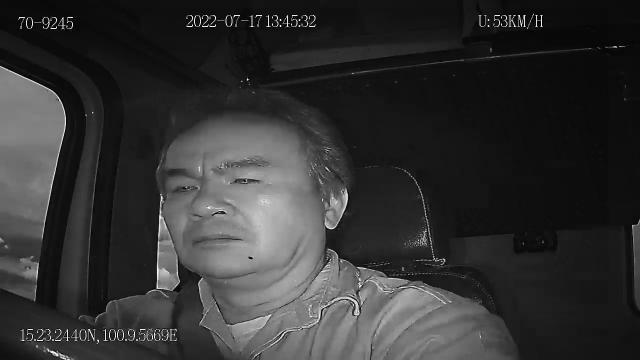SafeDriving: (221, 165, 269, 191), (162, 172, 204, 200)
Seatbelt: (172, 278, 228, 360)
